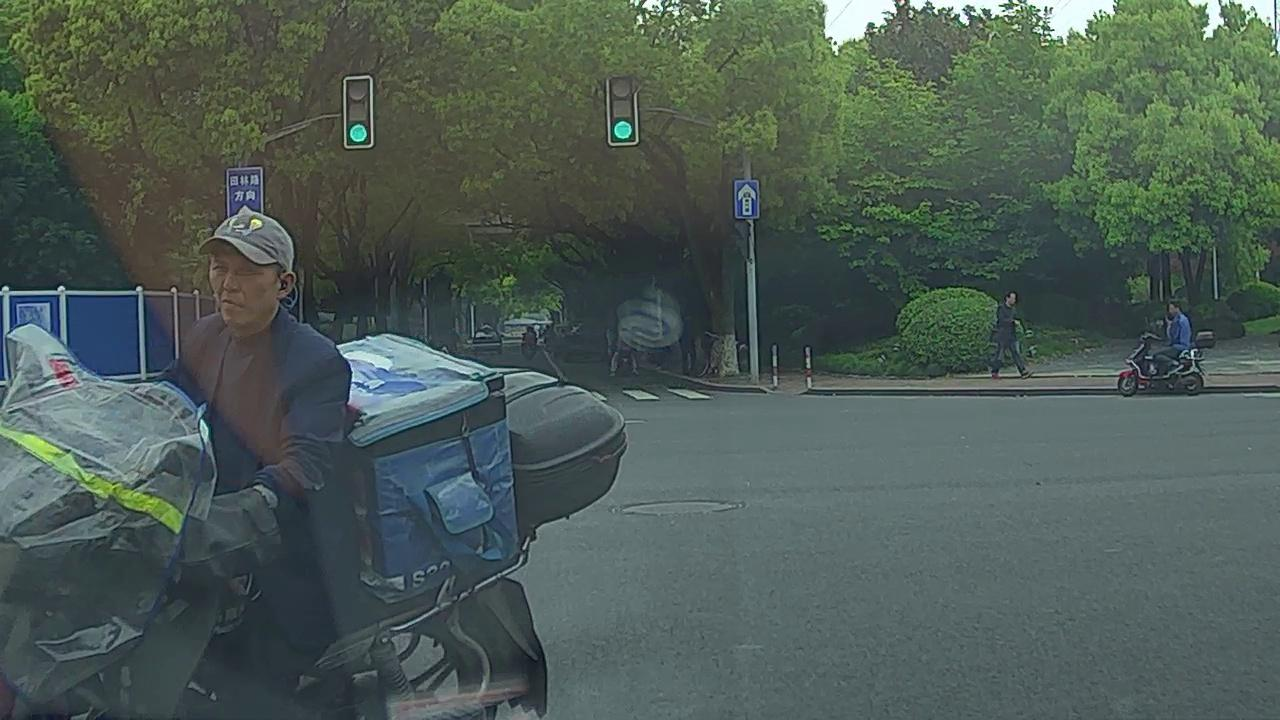traffic_light: (605, 78, 639, 146), (348, 78, 371, 147)
